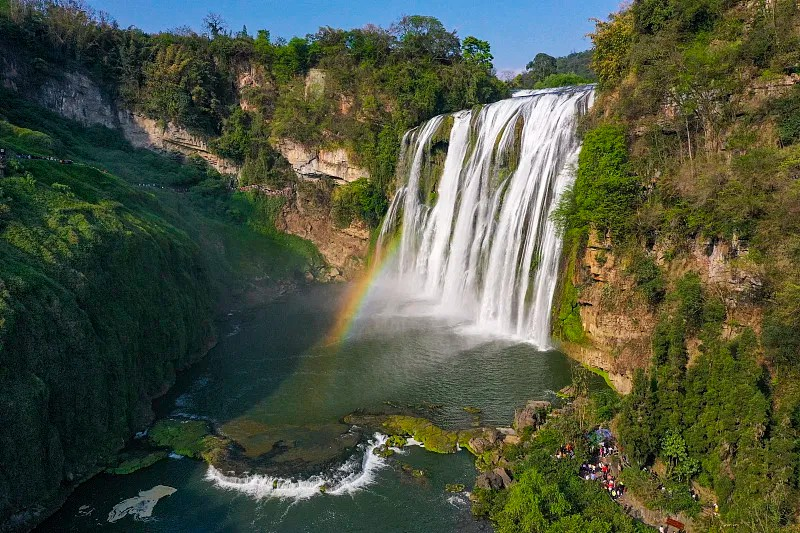Huangguoshu: (379, 83, 598, 350)
